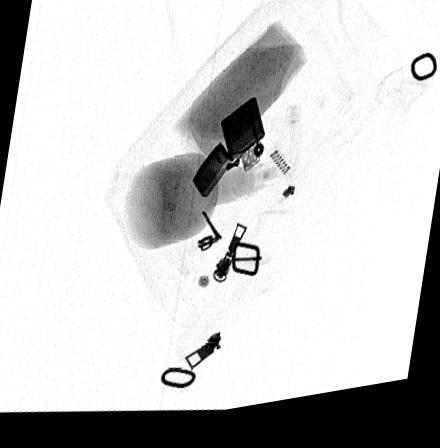Lighter: (192, 104, 266, 204)
